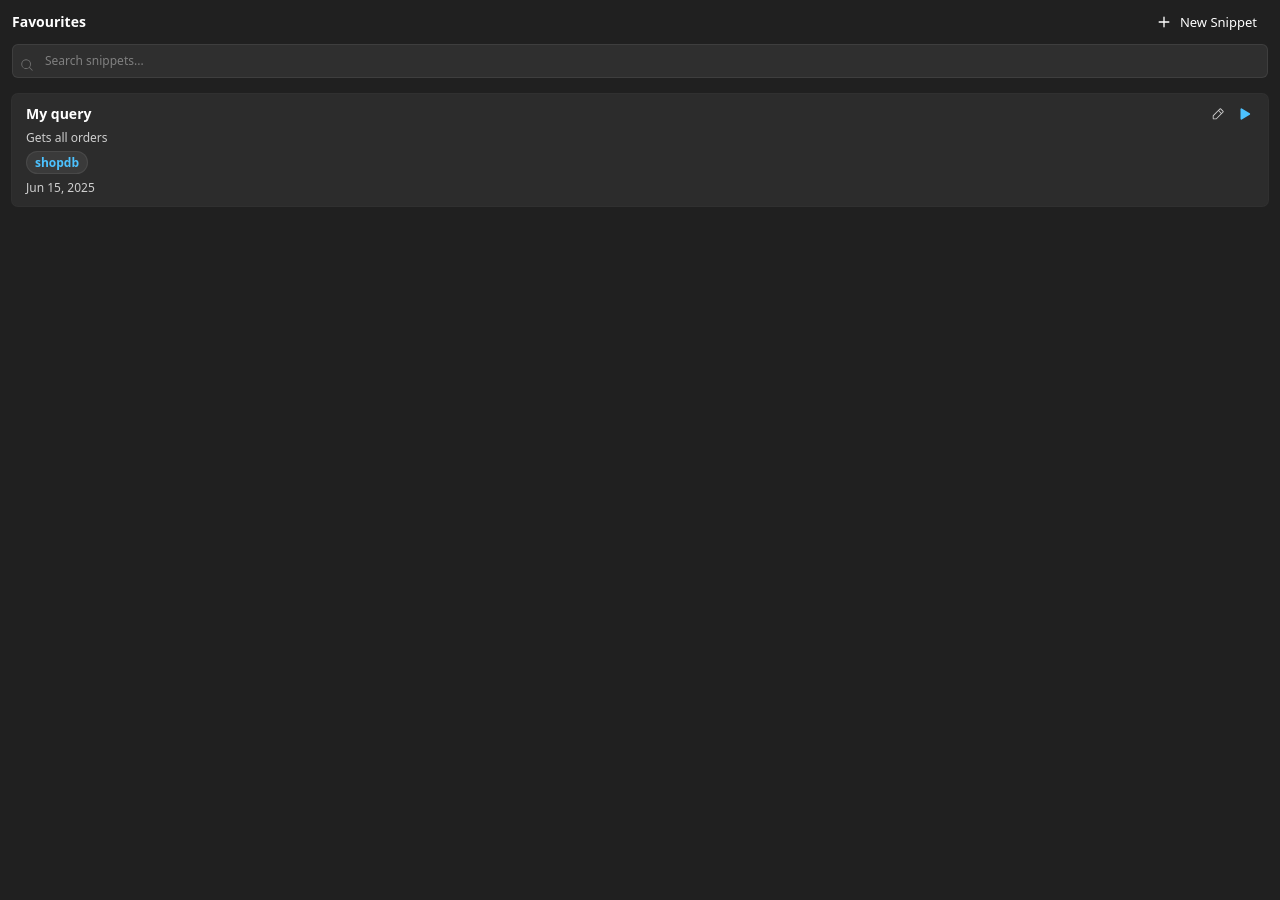
Test: FavouritesView › cancel delete confirmation does not delete
// Select the card first to show detail panel with delete button
Click the button with test id "favourites-snippet-card-1". click: (59, 114)
box: [12,94,1268,206]
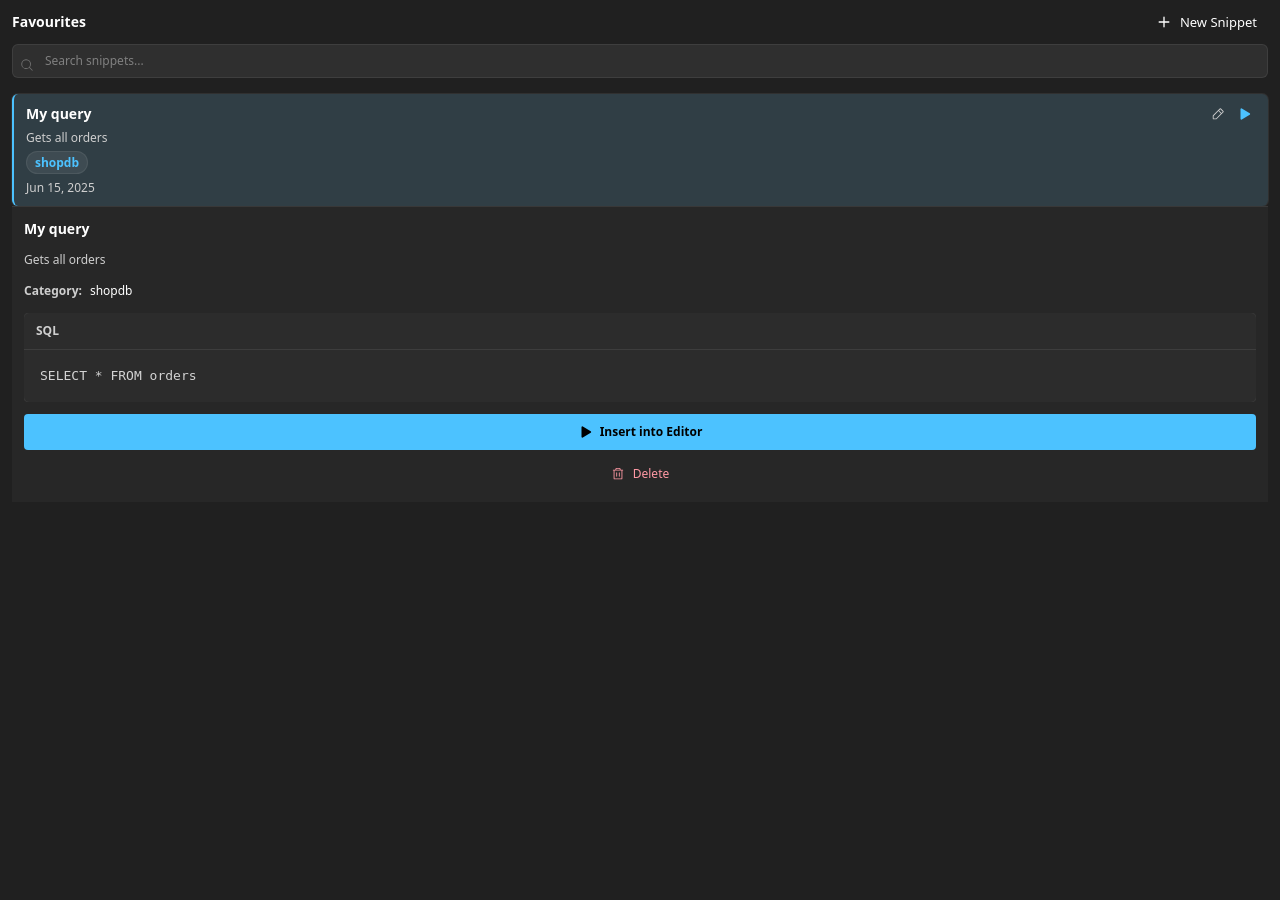
Click the button with test id "favourites-detail-delete". click: (640, 474)
box: [24,458,1256,490]
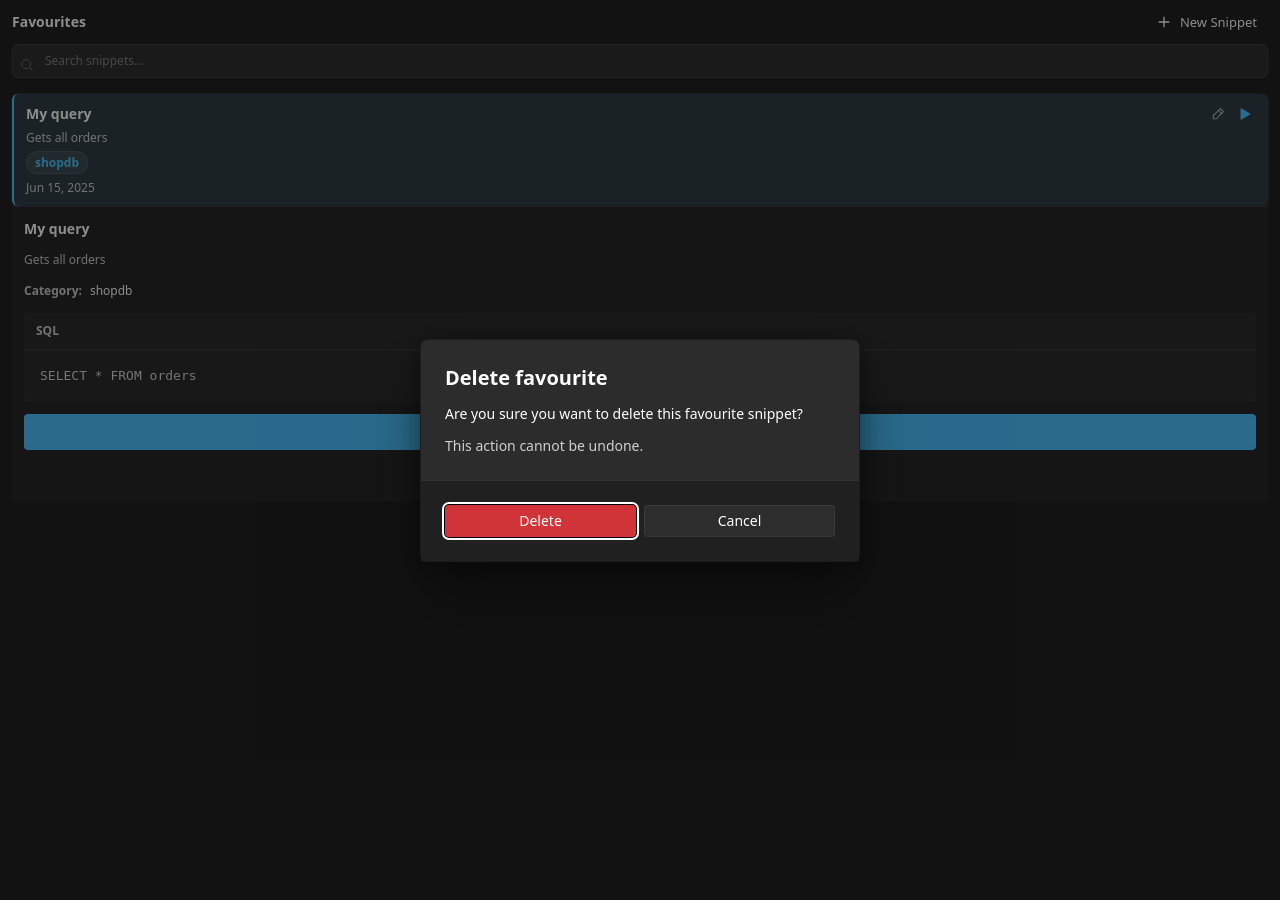
Now the dialog with test id "confirm-dialog" is shown
// Cancel deletion
Click the button with test id "confirm-cancel-button". click: (740, 520)
box: [644,504,835,536]
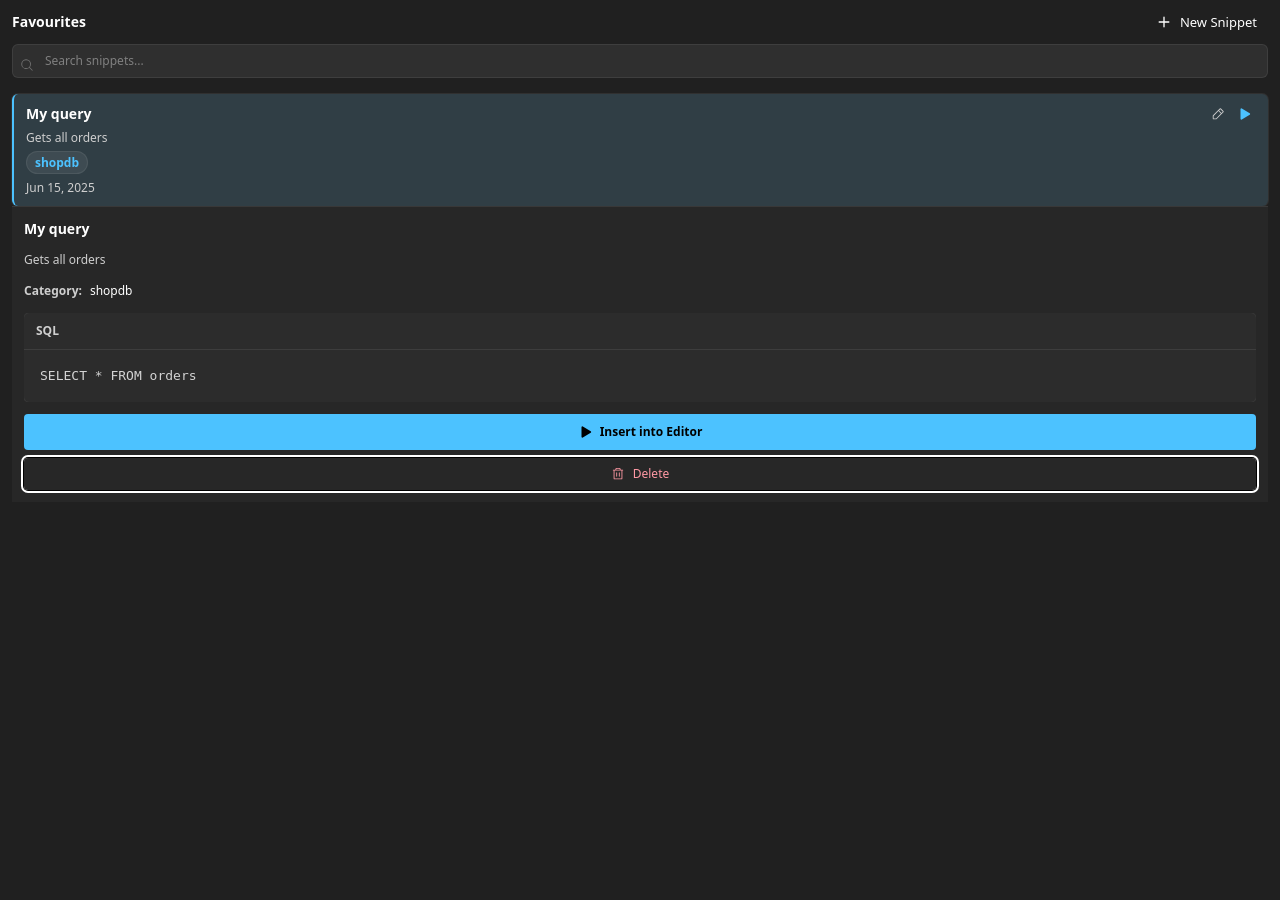
Now the dialog with test id "confirm-dialog" is gone
